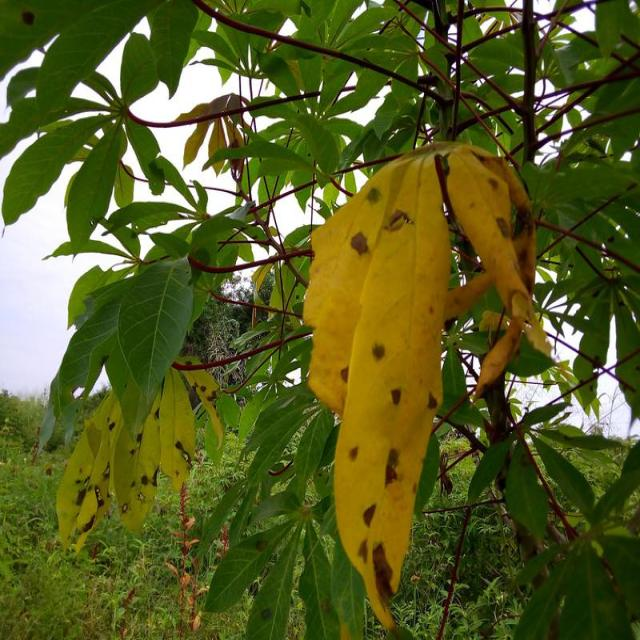cassava leaf: (300, 138, 550, 632)
